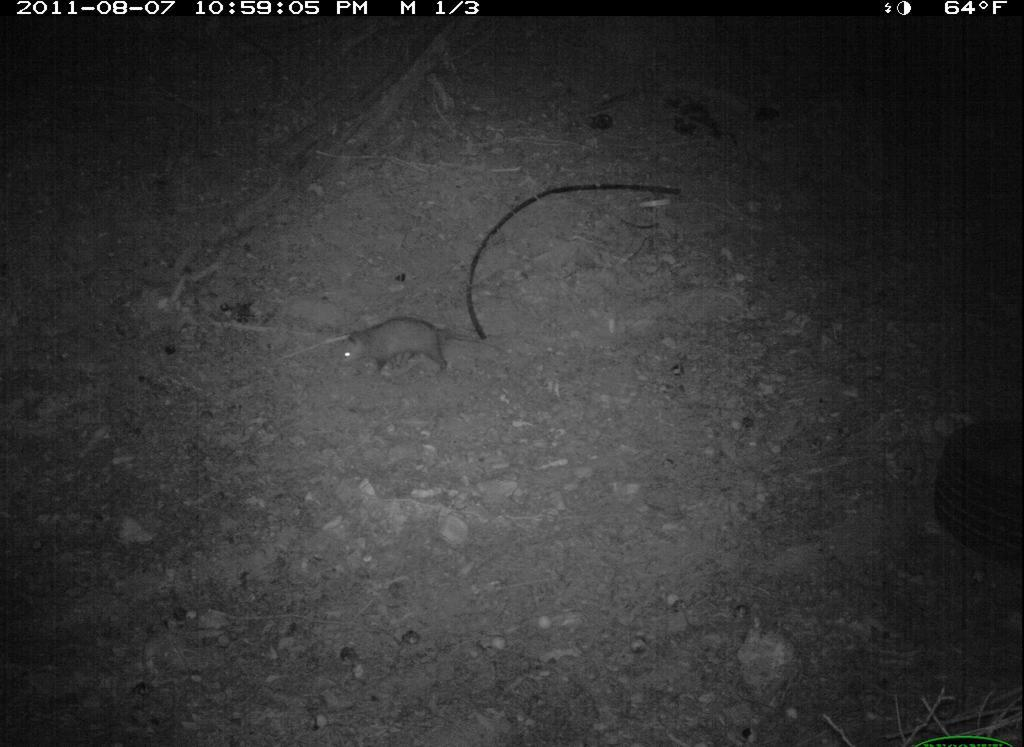opossum: (335, 310, 498, 390)
